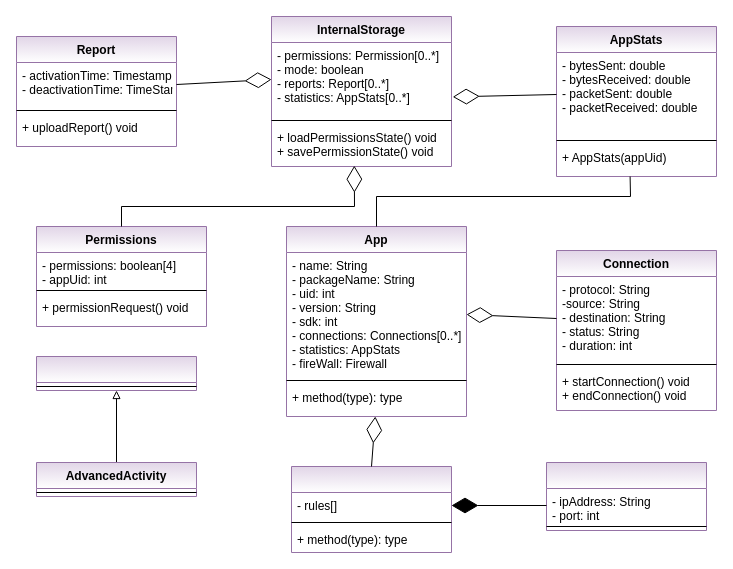
This 733x569 diagram has some shape labels left out. The shapes that lost their labels are listed below. From the top down, each one's box as (x1, y1, x2, y2) in pixels, then its label:
(36, 356, 196, 390): UserActivity
(290, 466, 452, 552): Firewall
(546, 462, 706, 530): Rule
